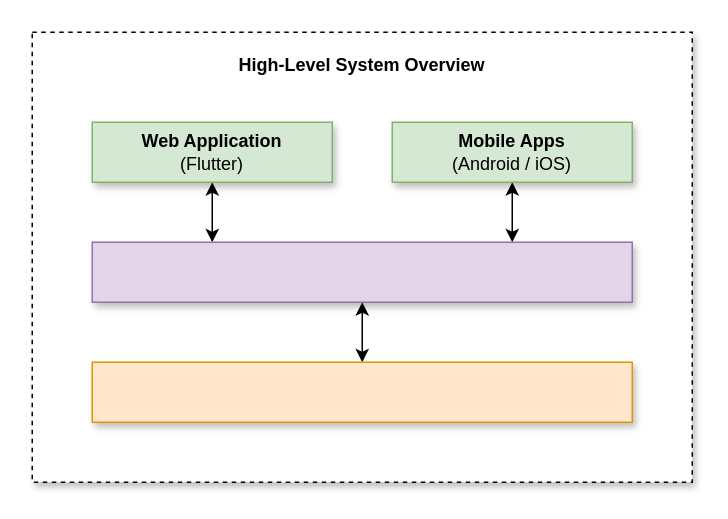
Image size: 728x519. Some labels were removed from this diagram. The centre of each missing label's shape, as x and y in pixels:
API (NodeJs): (363,274)
Database (PostgreSql): (363,394)
